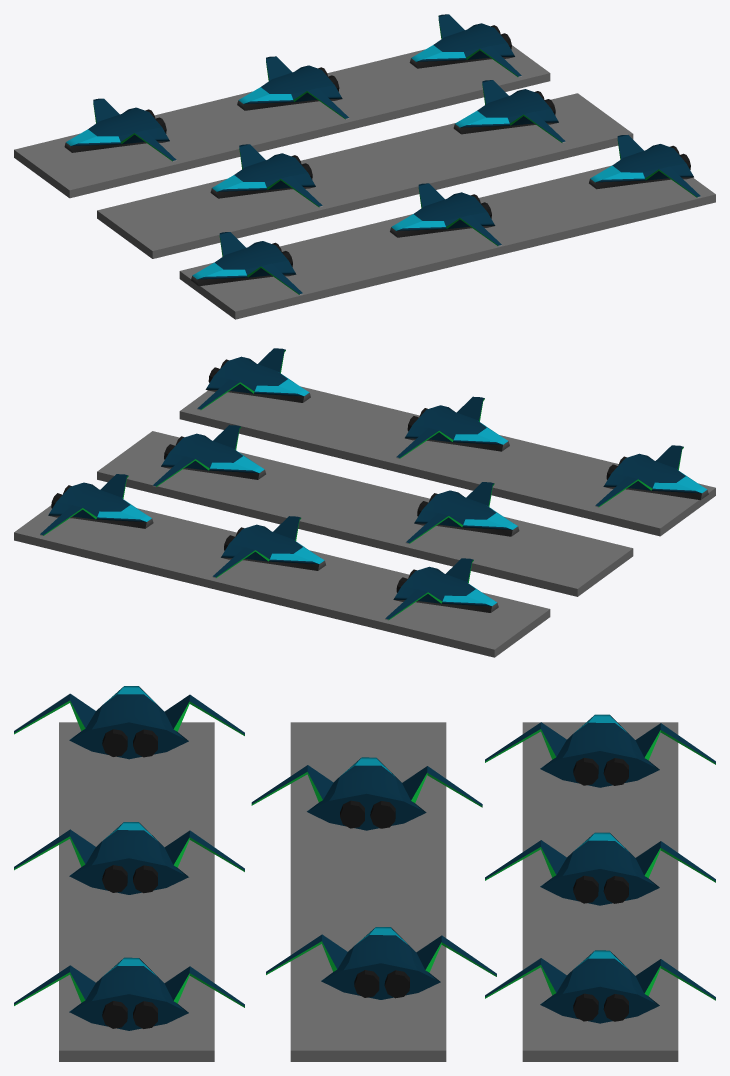
Rendered from Ship_Storage.fbx.
The picture shows the model from 3 angles, top to bottom: view 1: azimuth 30°, elevation 25°; view 2: azimuth 150°, elevation 25°; view 3: azimuth 270°, elevation 25°; orthographic projection. The views are drawn at different scales.
Visible parts, largest first — view 1: pCube13; view 2: pCube13; view 3: pCube13.
Part boxes in pixels (x1,y1,x2,y2): pCube13: (14,14,715,319); pCube13: (14,348,715,657); pCube13: (14,686,715,1061).
Size of the model in its own units: 3.23 by 0.2708 by 2.83.
